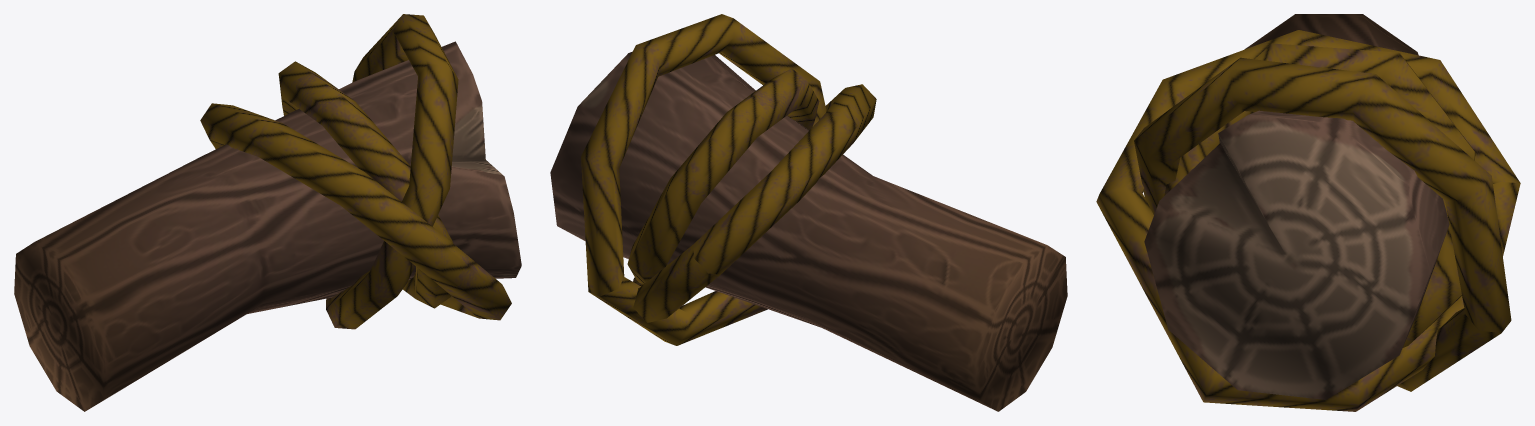
The model's file is Dummy_hand_l.fbx.
3 views of the same model, side by side, from view 1: azimuth 30°, elevation 25°; view 2: azimuth 150°, elevation 25°; view 3: azimuth 270°, elevation 25° (orthographic). The views are drawn at different scales.
Parts seen in each view (by area): view 1: Dummy_hand_l; view 2: Dummy_hand_l; view 3: Dummy_hand_l.
Part boxes in pixels (<box>): Dummy_hand_l: <box>14,14,521,411</box>; Dummy_hand_l: <box>550,14,1067,411</box>; Dummy_hand_l: <box>1096,14,1520,411</box>.
Bounding box in the file's own units: 56.88 × 34.2 × 37.96.
Materials: 1 (1 with a texture image).
